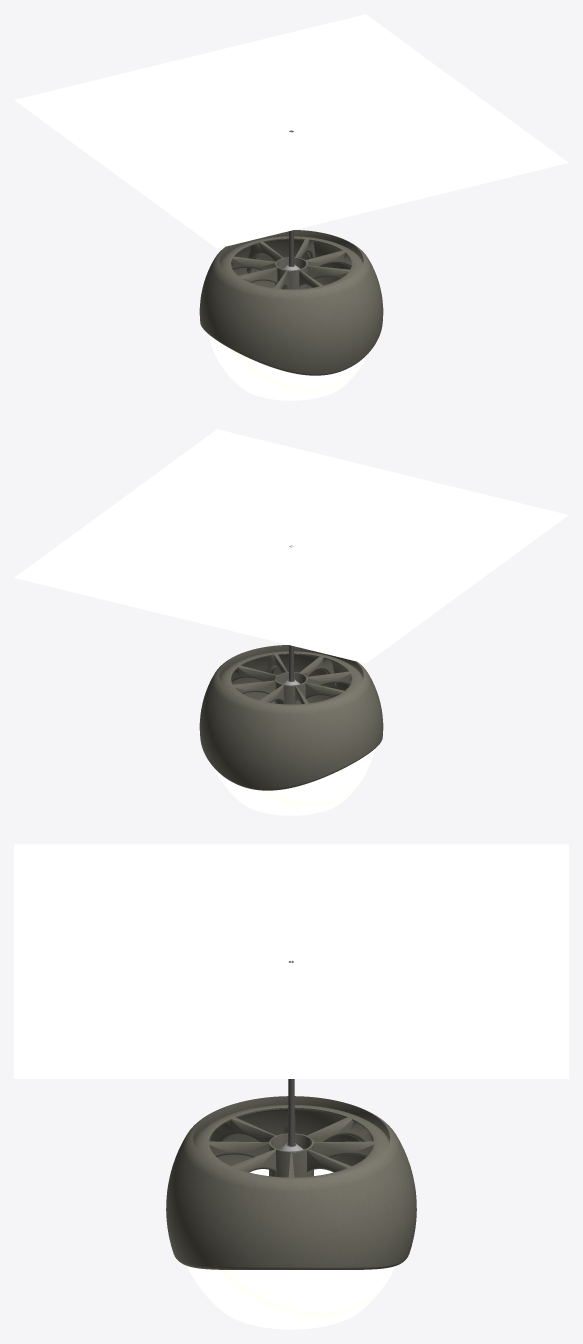
File: set.glb
3 views of the same model, one above another, from view 1: azimuth 30°, elevation 25°; view 2: azimuth 150°, elevation 25°; view 3: azimuth 270°, elevation 25° (orthographic). The views are drawn at different scales.
Parts seen in each view (by area): view 1: Holo; view 2: Holo; view 3: Holo.
Part boxes in pixels (x1,y1,x2,y2): Holo: (14, 14, 568, 400); Holo: (14, 429, 568, 815); Holo: (14, 844, 568, 1329).
Bounding box in the file's own units: 0.5199 × 0.3466 × 0.5199.
Materials: 9 (2 with a texture image).
